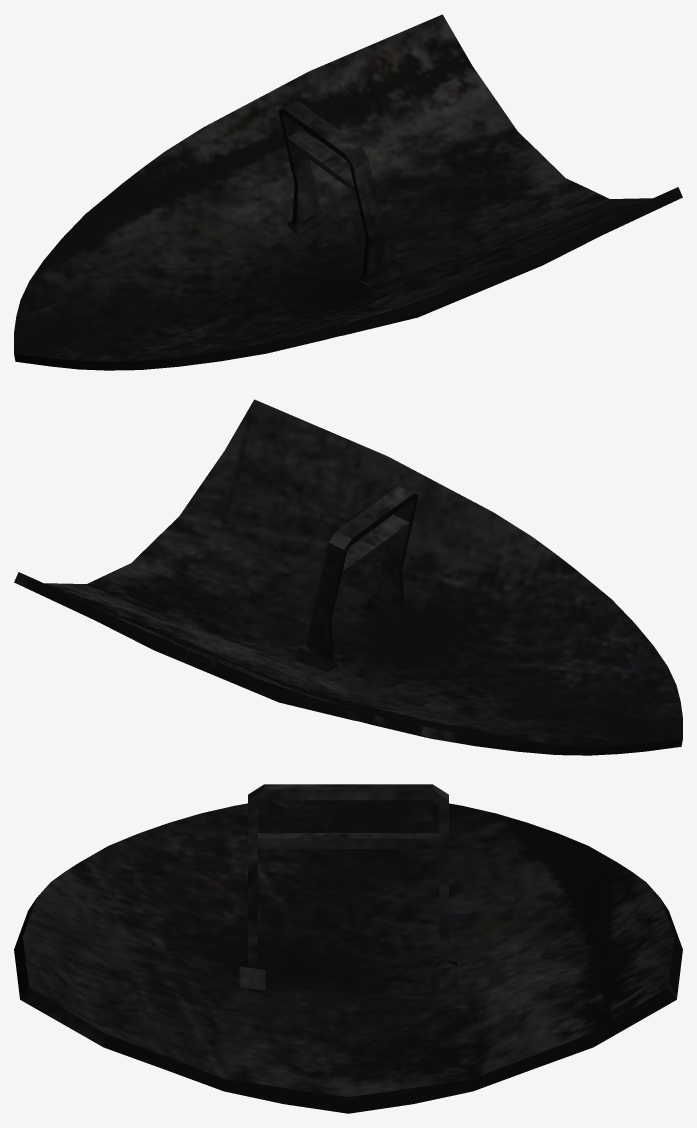
3 views of the same model, one above another, from view 1: azimuth 30°, elevation 25°; view 2: azimuth 150°, elevation 25°; view 3: azimuth 270°, elevation 25° (orthographic). The views are drawn at different scales.
Visible parts, largest first — view 1: mesh_0; view 2: mesh_0; view 3: mesh_0.
Boxes of the visible parts, x1,y1,x2,y2 form: mesh_0: (14,14,682,370); mesh_0: (14,399,682,755); mesh_0: (14,784,682,1113).
Bounding box in the file's own units: 23.94 × 7.35 × 18.49.
Materials: 1 (1 with a texture image).
